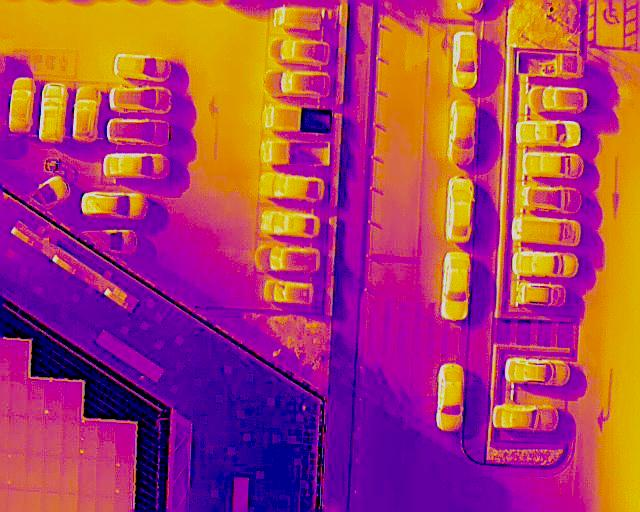Cell-Multi: (114, 458, 134, 496), (79, 421, 98, 459), (7, 453, 26, 491), (45, 381, 63, 419)
No-Anomaly: (78, 456, 98, 496), (62, 381, 82, 419), (44, 417, 63, 456), (96, 457, 115, 496), (61, 419, 80, 456), (26, 418, 45, 455), (61, 455, 79, 494), (9, 379, 27, 417), (44, 455, 62, 493), (28, 379, 45, 419), (98, 422, 116, 459), (9, 416, 27, 453), (11, 341, 28, 380), (26, 454, 43, 492), (117, 423, 135, 458)
